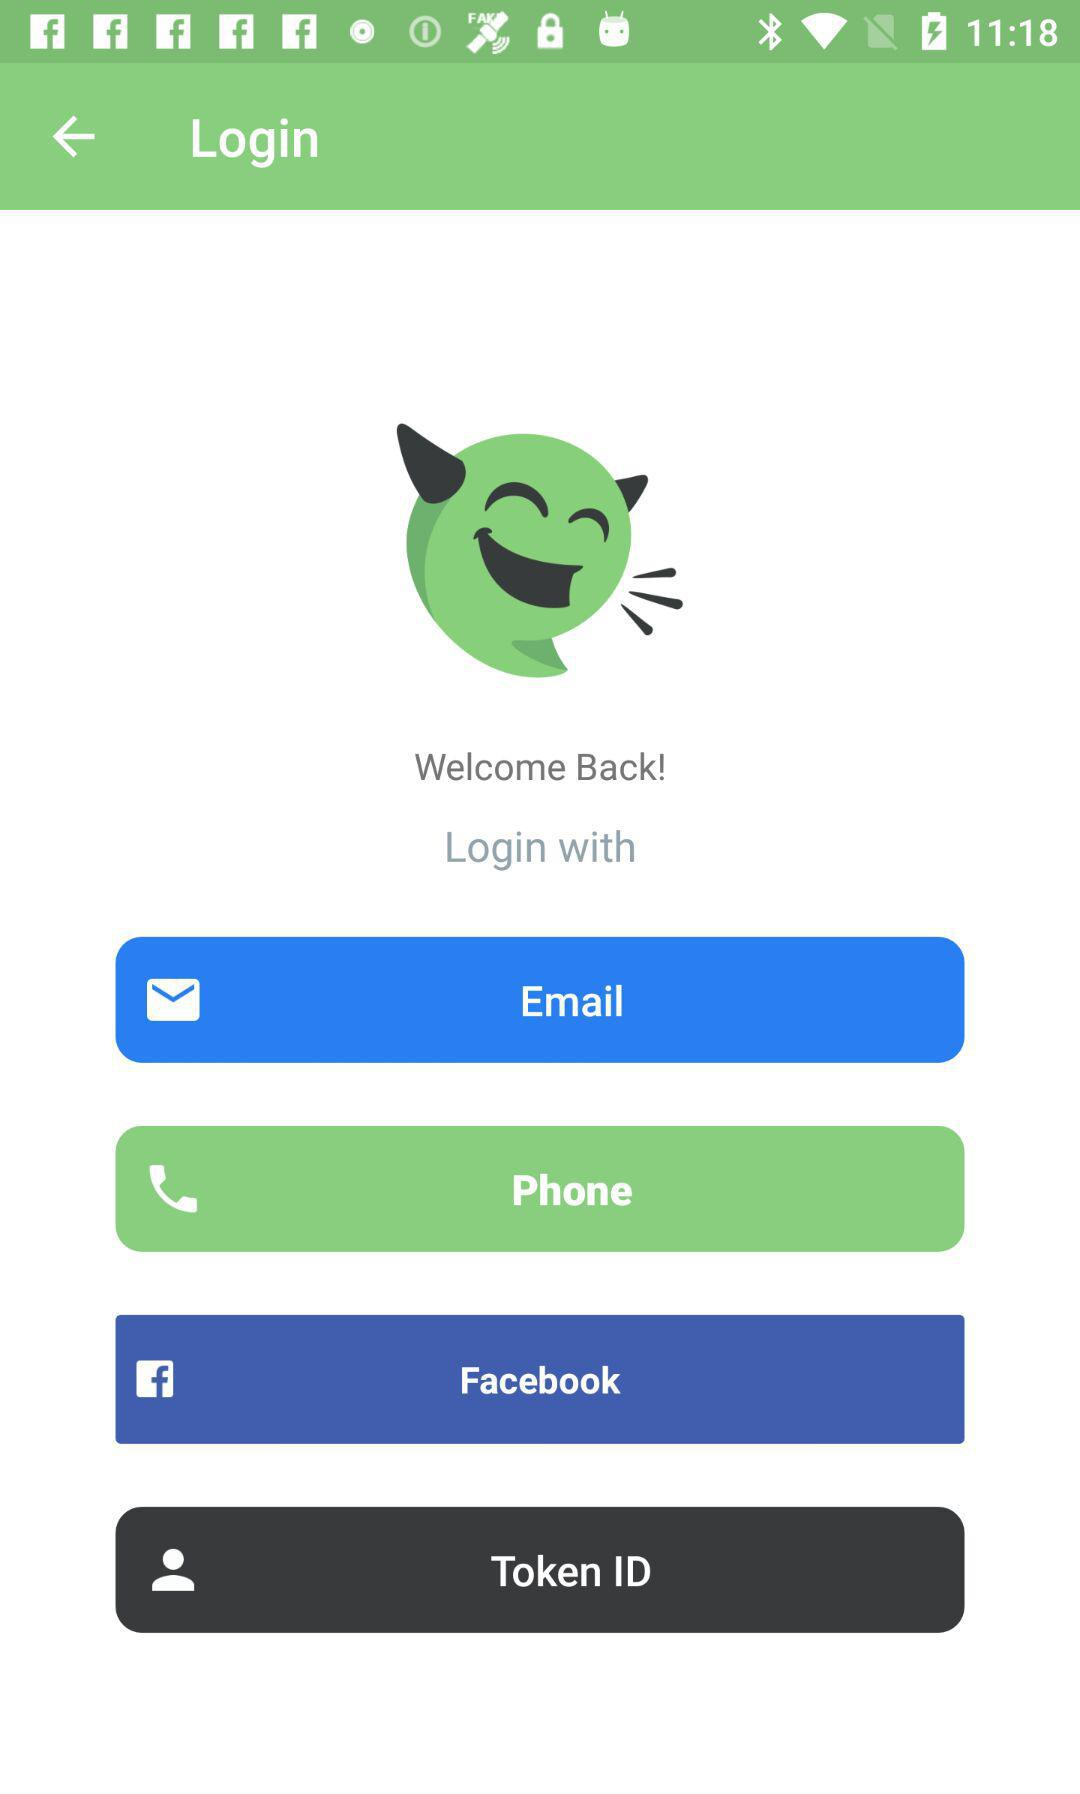Icon: (53, 115, 97, 159)
Image: (396, 423, 684, 680)
Text: (446, 829, 635, 871), (414, 752, 665, 782), (192, 118, 319, 170)
TextButton: (115, 1315, 965, 1445), (117, 937, 965, 1064), (117, 1126, 965, 1253), (117, 1507, 965, 1634)
Toolbar: (1, 64, 1077, 210)
UpperTaskBar: (1, 1, 1080, 64)
